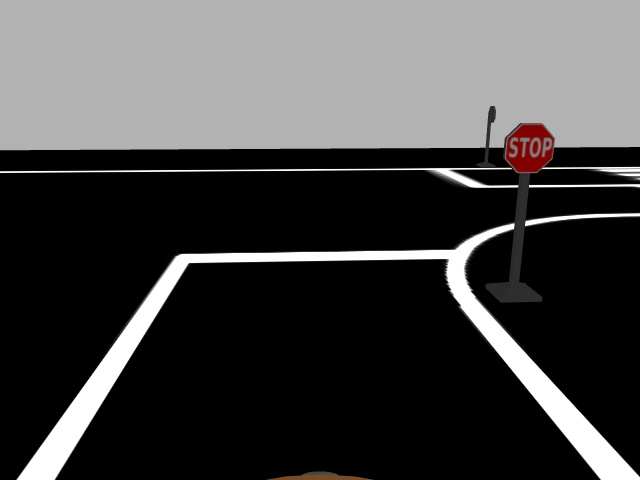stop: (500, 121, 557, 174)
